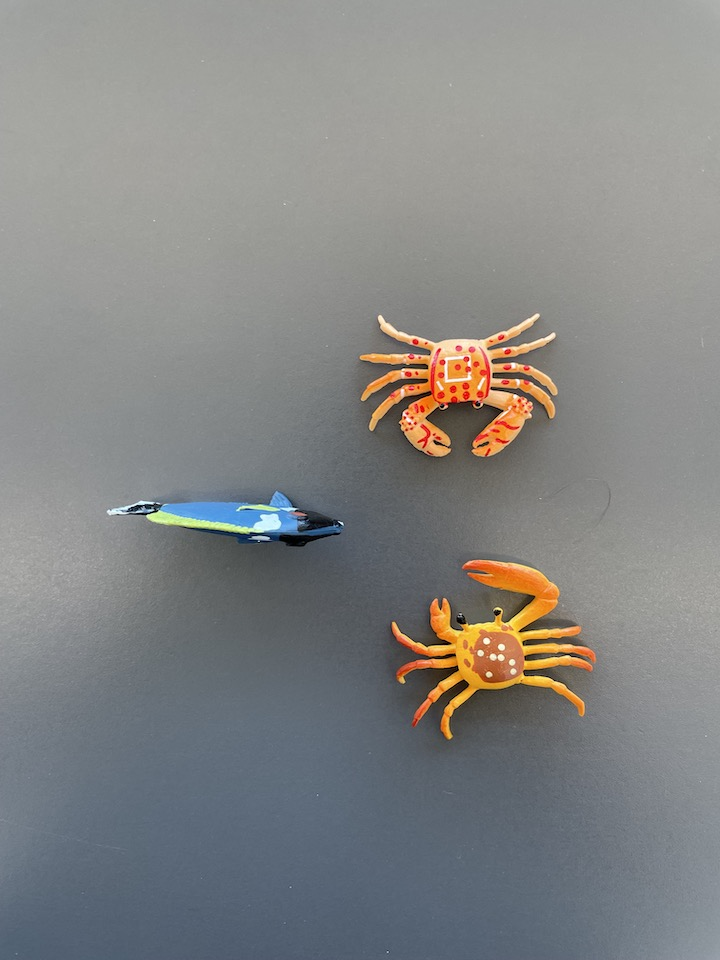crab: (390, 558, 597, 740), (360, 311, 559, 459)
fish: (104, 486, 347, 551)
